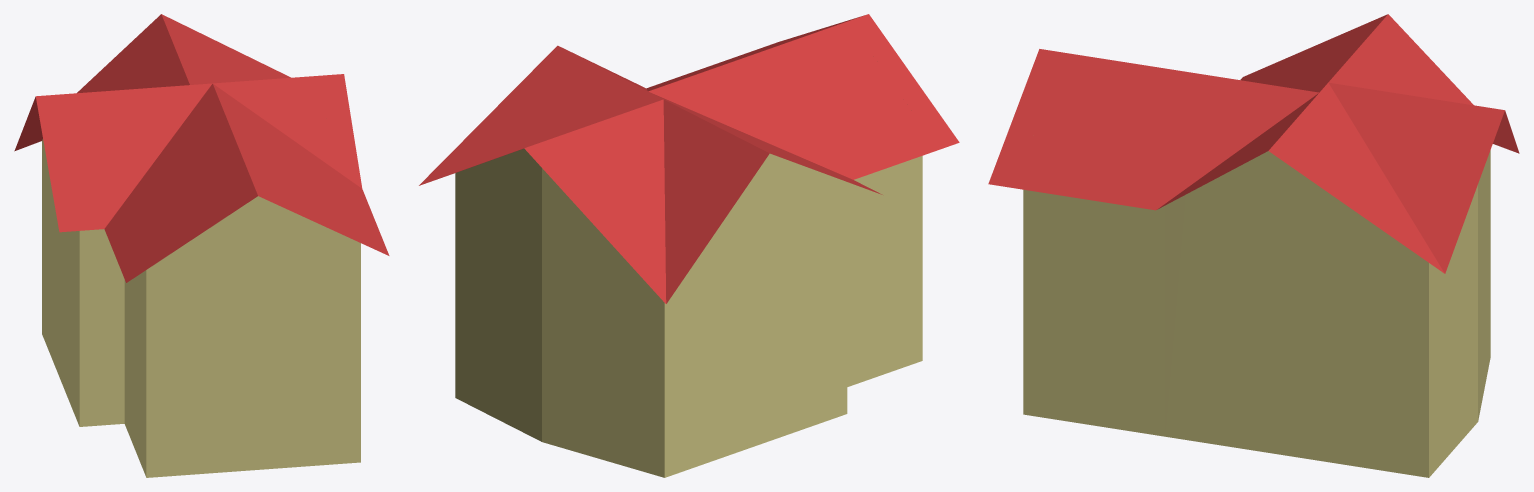
The picture shows the model from 3 angles, left to right: view 1: azimuth 30°, elevation 25°; view 2: azimuth 150°, elevation 25°; view 3: azimuth 270°, elevation 25°; orthographic projection. The views are drawn at different scales.
Visible parts, largest first — view 1: group_5, group_3, group_4; view 2: group_5, group_3, group_4; view 3: group_5, group_3, group_4.
Part boxes in pixels (<box>): group_5: <box>42,139,360,477</box>; group_3: <box>35,14,361,256</box>; group_4: <box>14,18,389,282</box>; group_5: <box>455,148,922,477</box>; group_3: <box>419,18,922,303</box>; group_4: <box>453,14,959,179</box>; group_5: <box>1023,150,1490,477</box>; group_3: <box>1023,14,1504,273</box>; group_4: <box>988,14,1519,210</box>.
Bounding box in the file's own units: 12.23 × 14.58 × 9.51.
